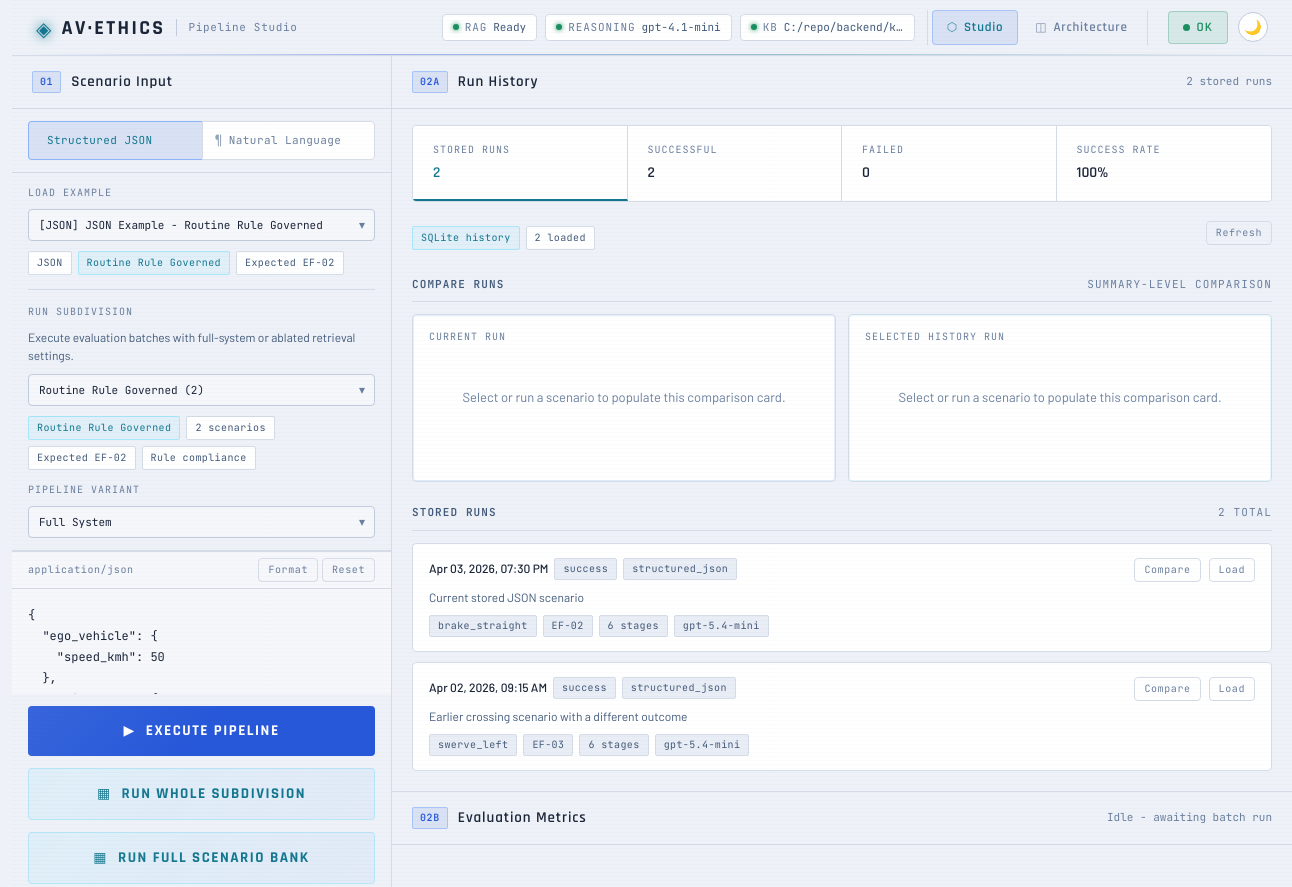
Scenario: App › shows changed JSON paths while replaying the pipeline
What coordinates should you click on to do the following:
click the button with aria-label "Run Scenario"
I would click on:
 (202, 731)
Its box is [28,706,375,756].
(page scrolled)
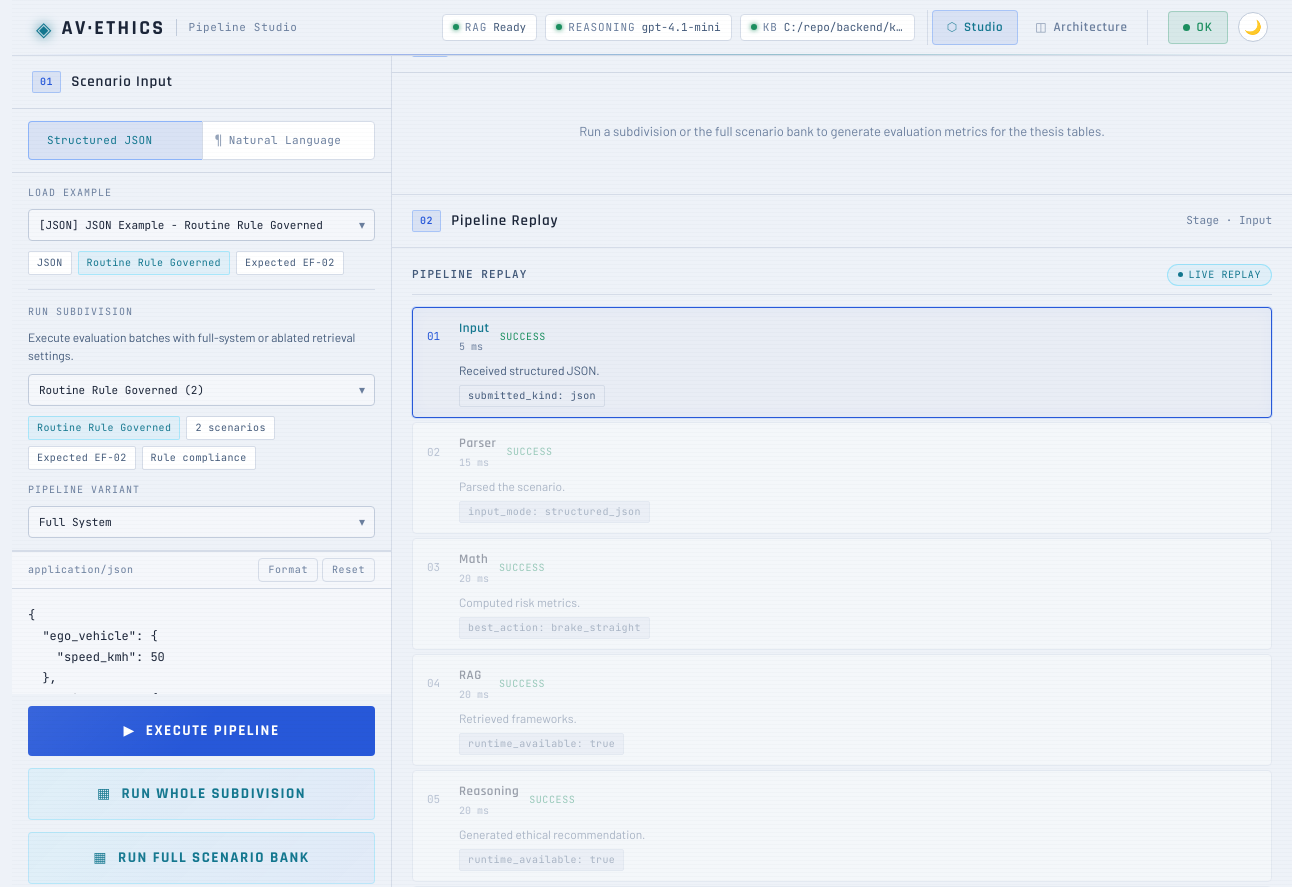
Check: the text "Settled" is shown, box [1167,264,1272,286]
What coordinates should you click on to do the following:
click the button "Parser"
I would click on:
 (478, 443)
Its box is [413,423,1271,533].
(page scrolled)
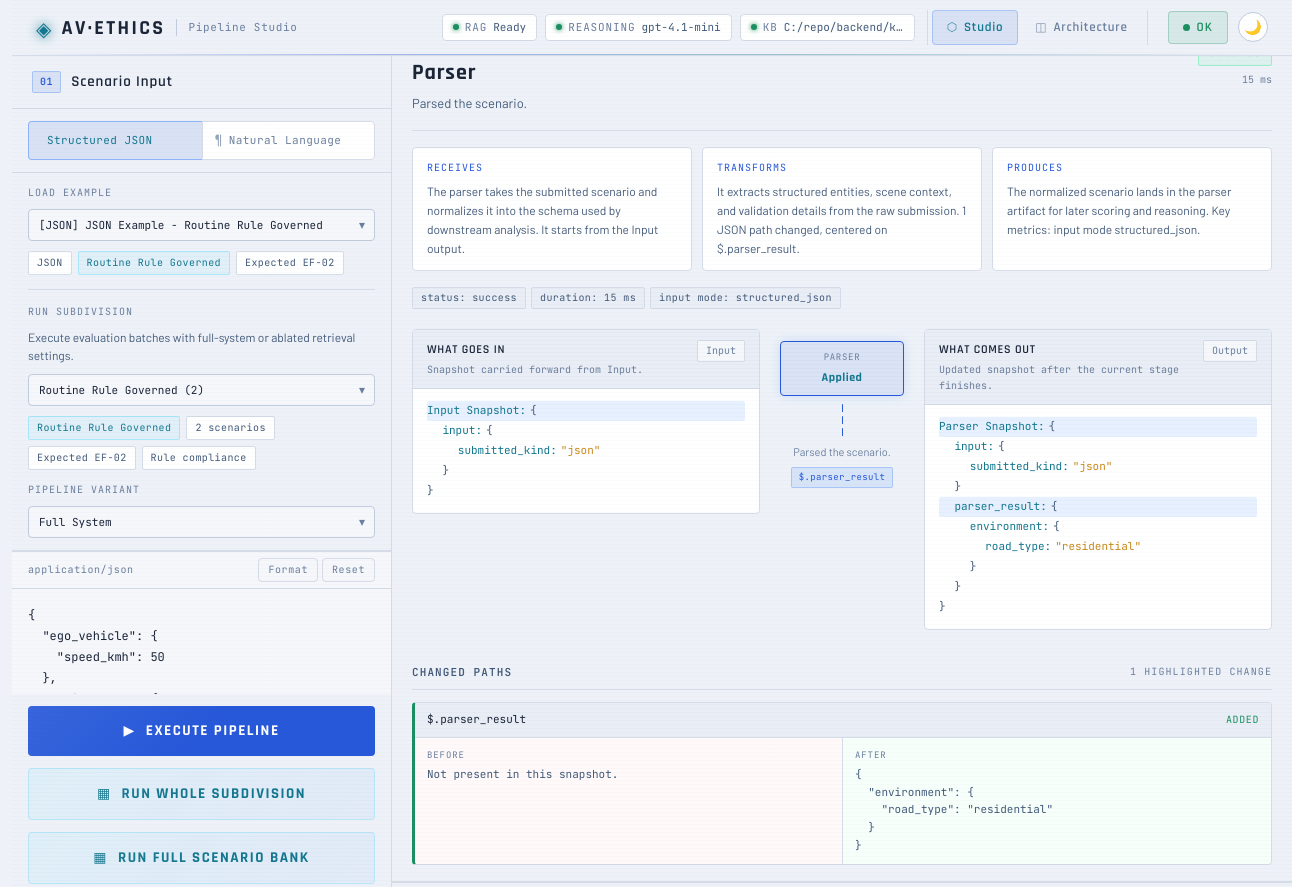
Check: the heading "Parser" is shown, box [412,59,476,87]
Check: the element with test id "highlight-strip" shows "parser_result", box [799,471,885,483]
